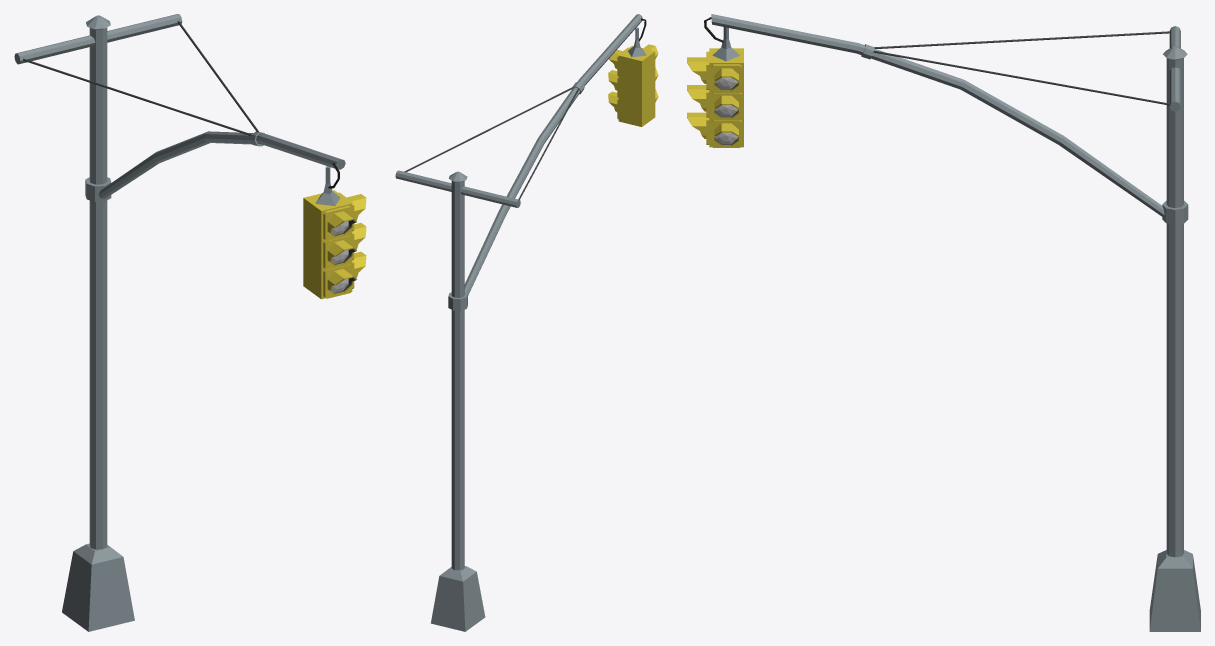
The model's file is Traffic_light_1.fbx.
3 views of the same model, side by side, from view 1: azimuth 30°, elevation 25°; view 2: azimuth 150°, elevation 25°; view 3: azimuth 270°, elevation 25° (orthographic). The views are drawn at different scales.
Parts seen in each view (by area): view 1: Traffic_light_1; view 2: Traffic_light_1; view 3: Traffic_light_1.
Boxes of the visible parts, left/top/right/bottom form: Traffic_light_1: left=14, top=14, right=366, bottom=631; Traffic_light_1: left=395, top=14, right=658, bottom=631; Traffic_light_1: left=687, top=14, right=1200, bottom=631.
Bounding box in the file's own units: 100 × 374 × 287.
7 materials, 1 textured.
